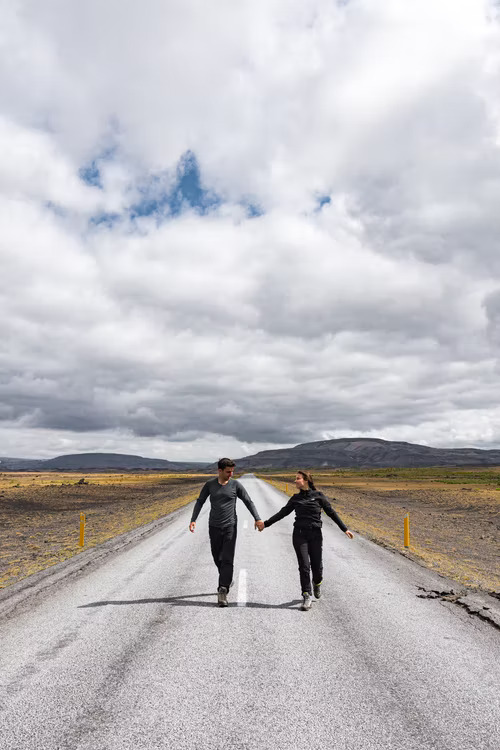person: (261, 470, 352, 610), (189, 459, 263, 605)
